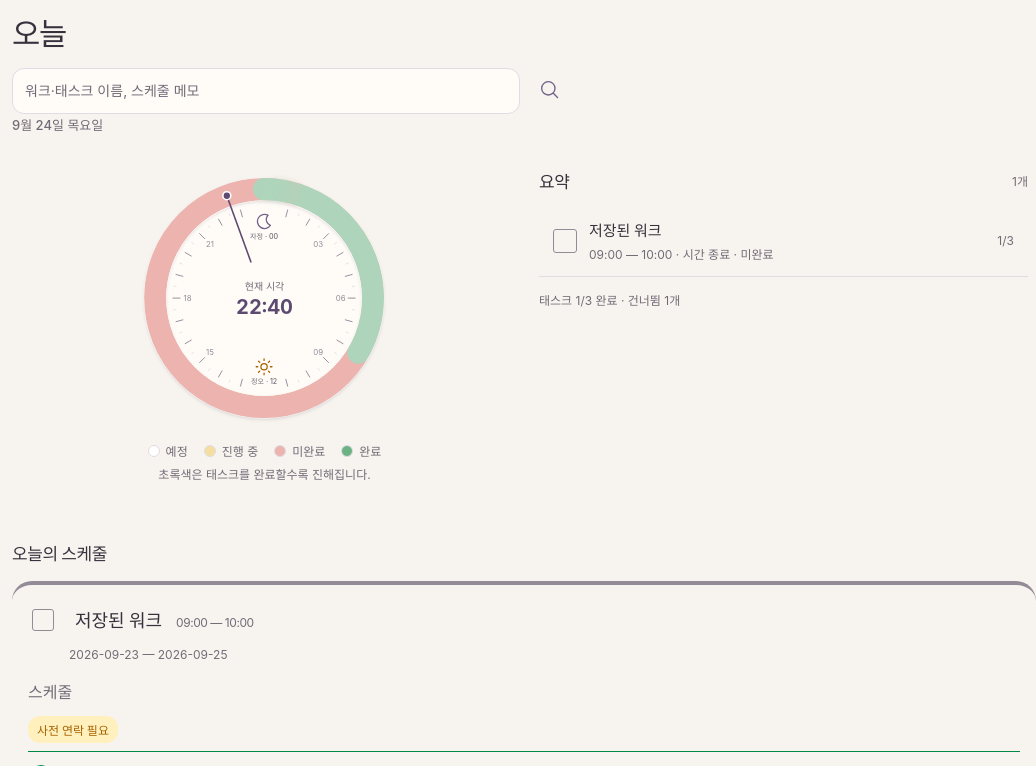
it: completes a work atomically and updates every task and progress
The image size is (1036, 766).
Click the button with aria-label "저장된 워크 모든 태스크 완료". click: (625, 231)
box: [539,205,1028,277]
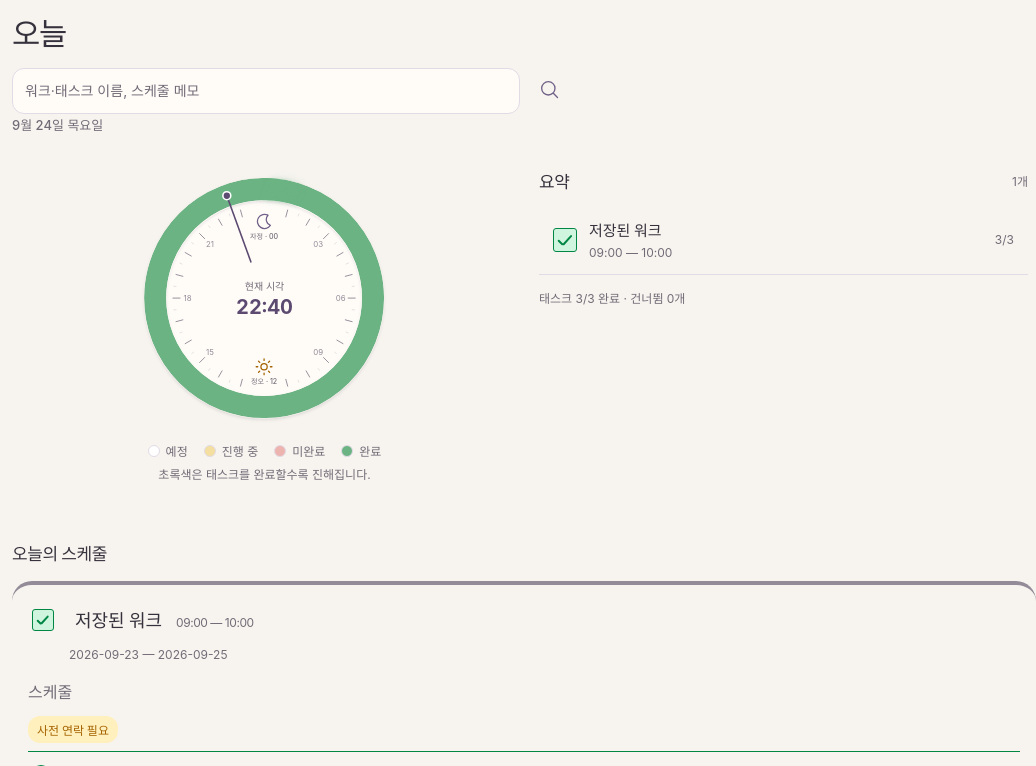
Now the text named "오늘의 태스크 진행률" shows "3/3", box [539,291,685,306]
